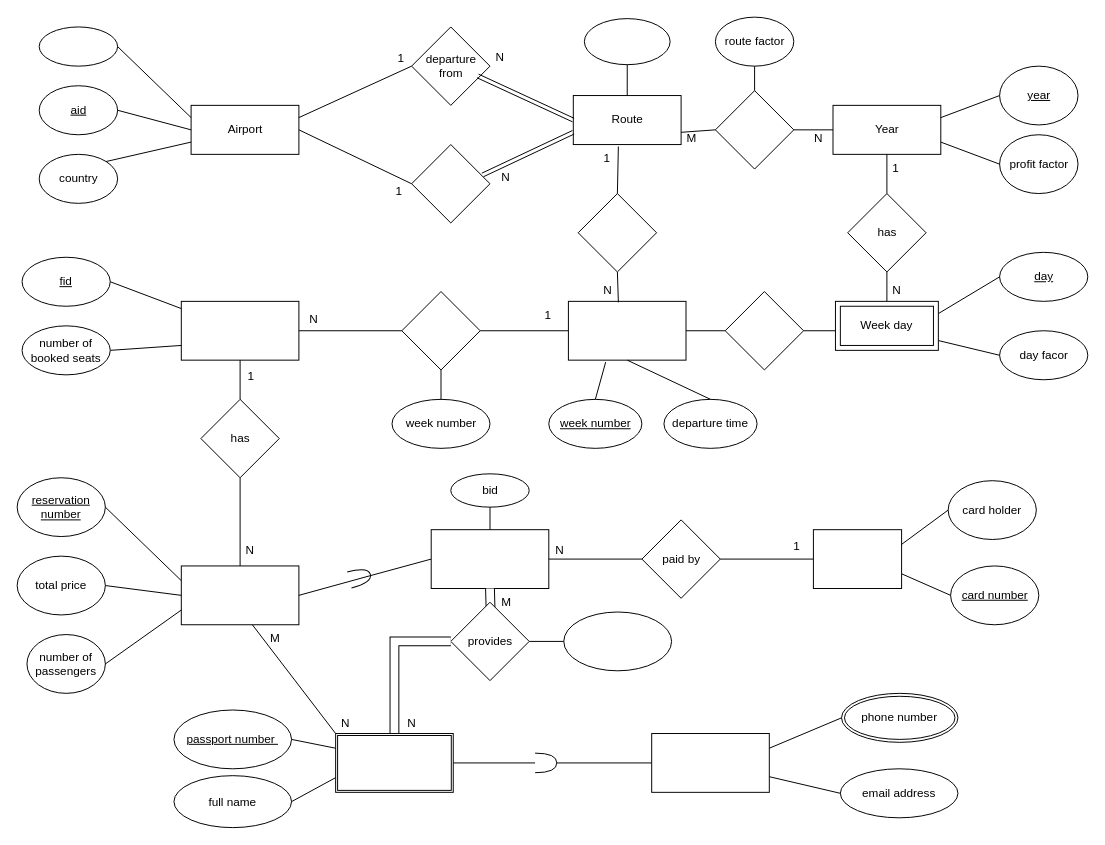
Image size: 1105x845. Some labels were removed from this diagram. Here are the shapes that lost their labels. From the top down, the centre of each, then its label:
At (x=78, y=46): "name".
At (x=626, y=41): "rid".
At (x=754, y=129): "changes".
At (x=450, y=183): "arrive at".
At (x=617, y=232): "flies on".
At (x=239, y=330): "Flight".
At (x=440, y=330): "scheduled".
At (x=626, y=330): "Weekly schedule".
At (x=764, y=330): "in".
At (x=489, y=558): "Booking".
At (x=857, y=558): "Credit Card".
At (x=239, y=595): "Reservation".
At (x=617, y=641): "ticket number".
At (x=394, y=762): "Passenger".
At (x=710, y=762): "Contact".
